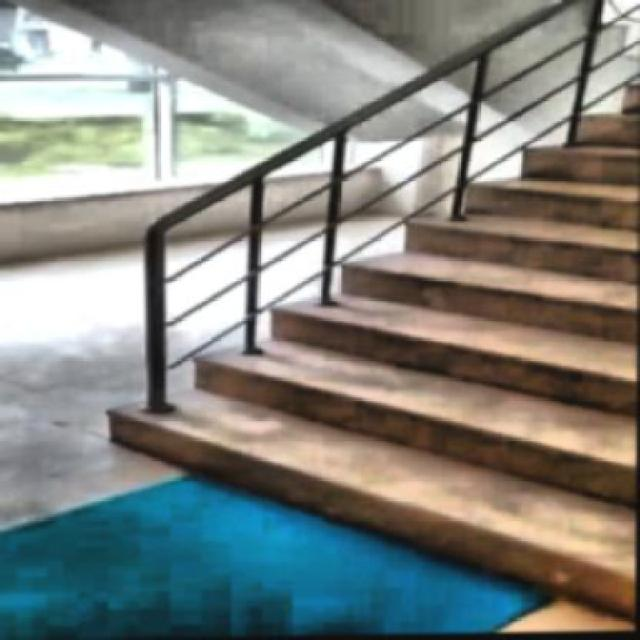stair: (60, 61, 637, 638)
